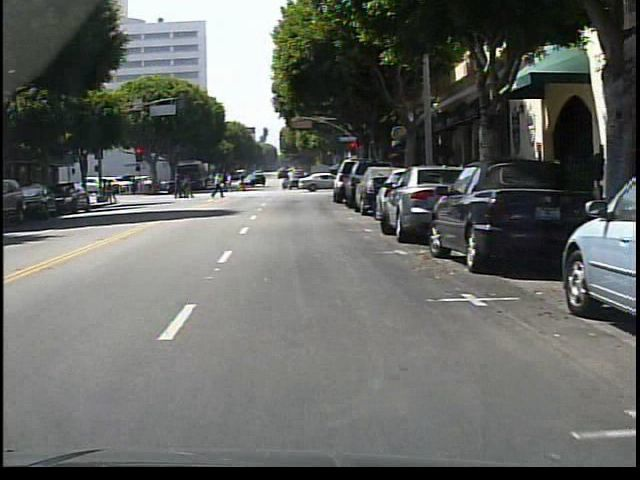person: (206, 169, 226, 199)
